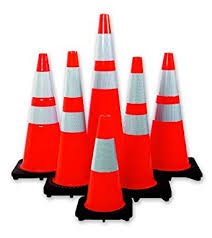cones: (81, 112, 136, 223), (16, 52, 62, 180)
